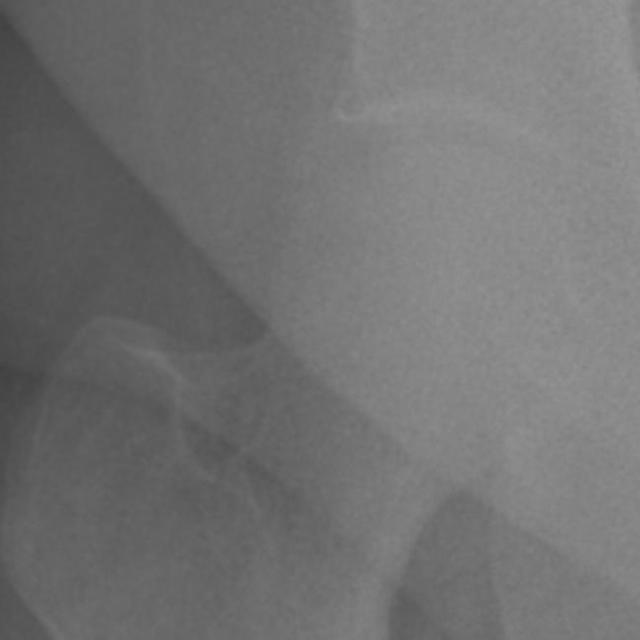Fitted_femural_head: (350, 147, 432, 350)
